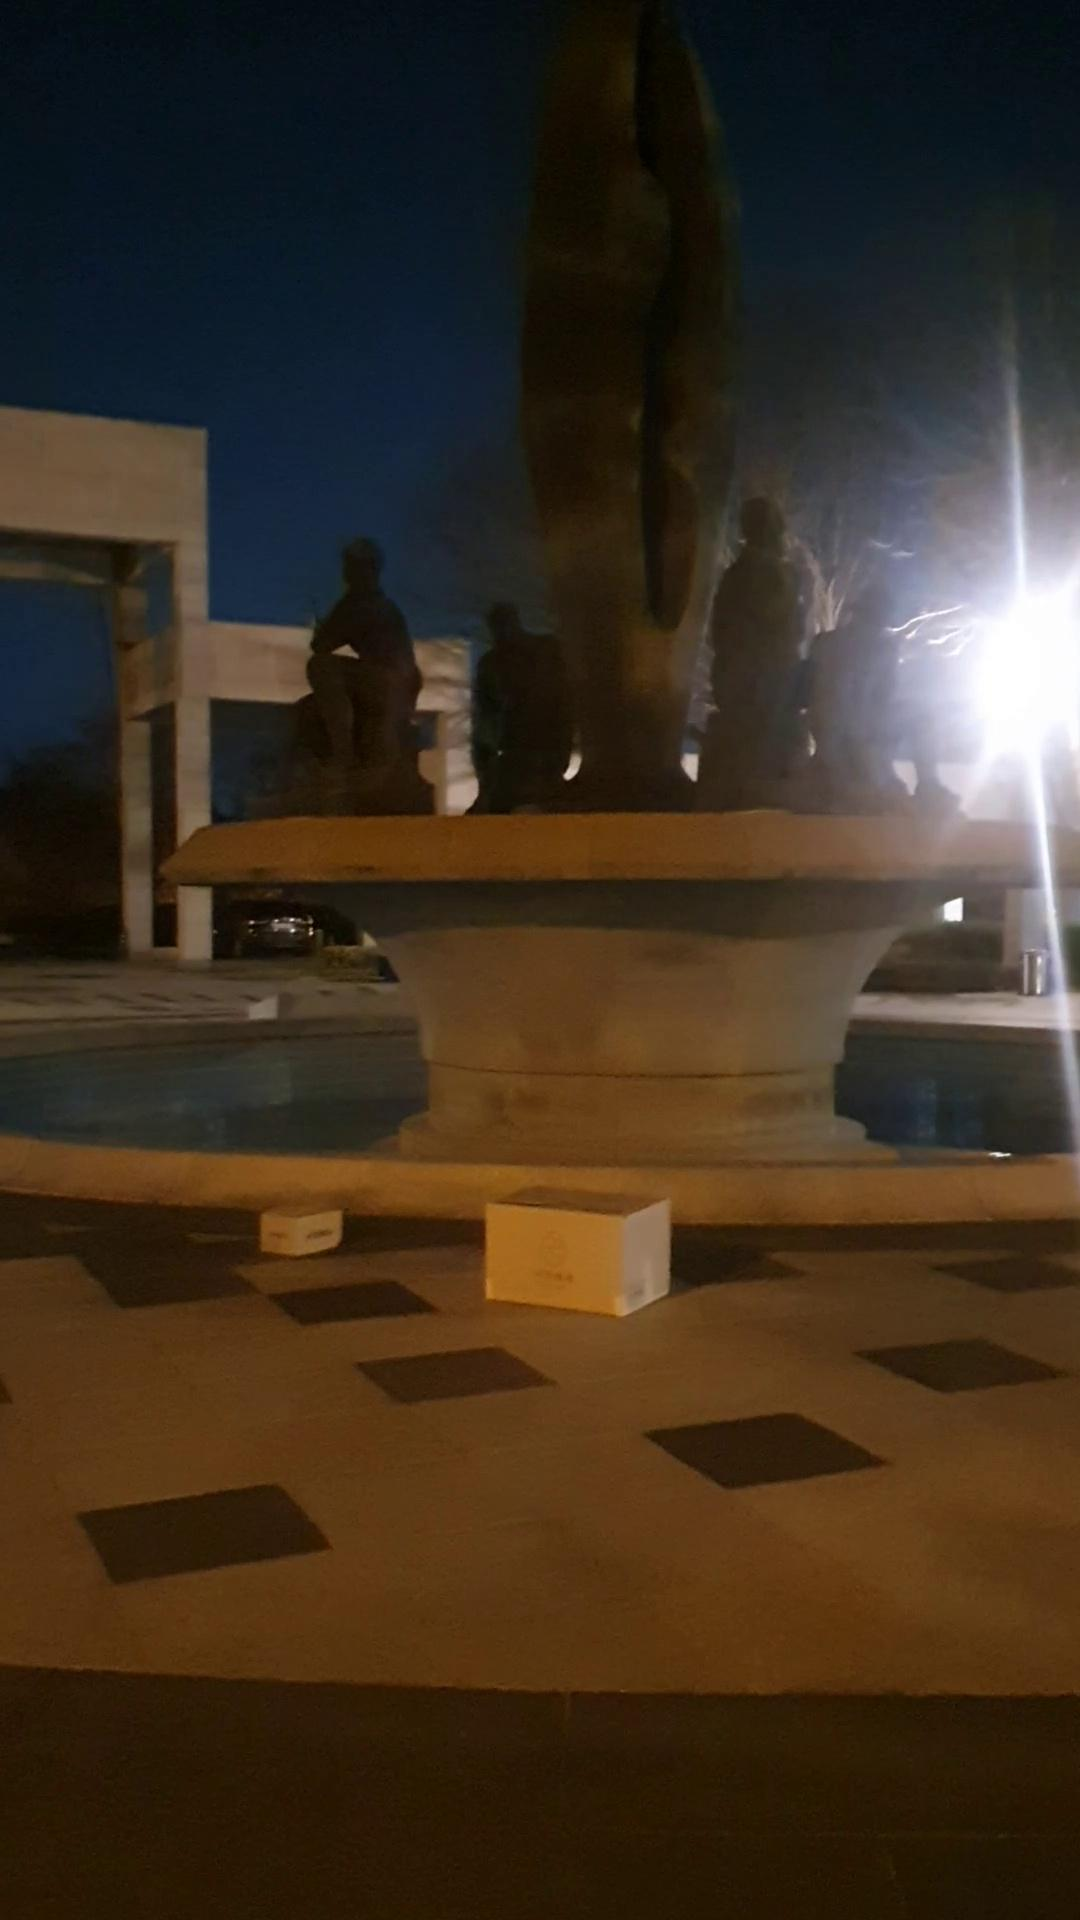Box: (465, 1170, 698, 1315), (241, 1189, 349, 1265)
